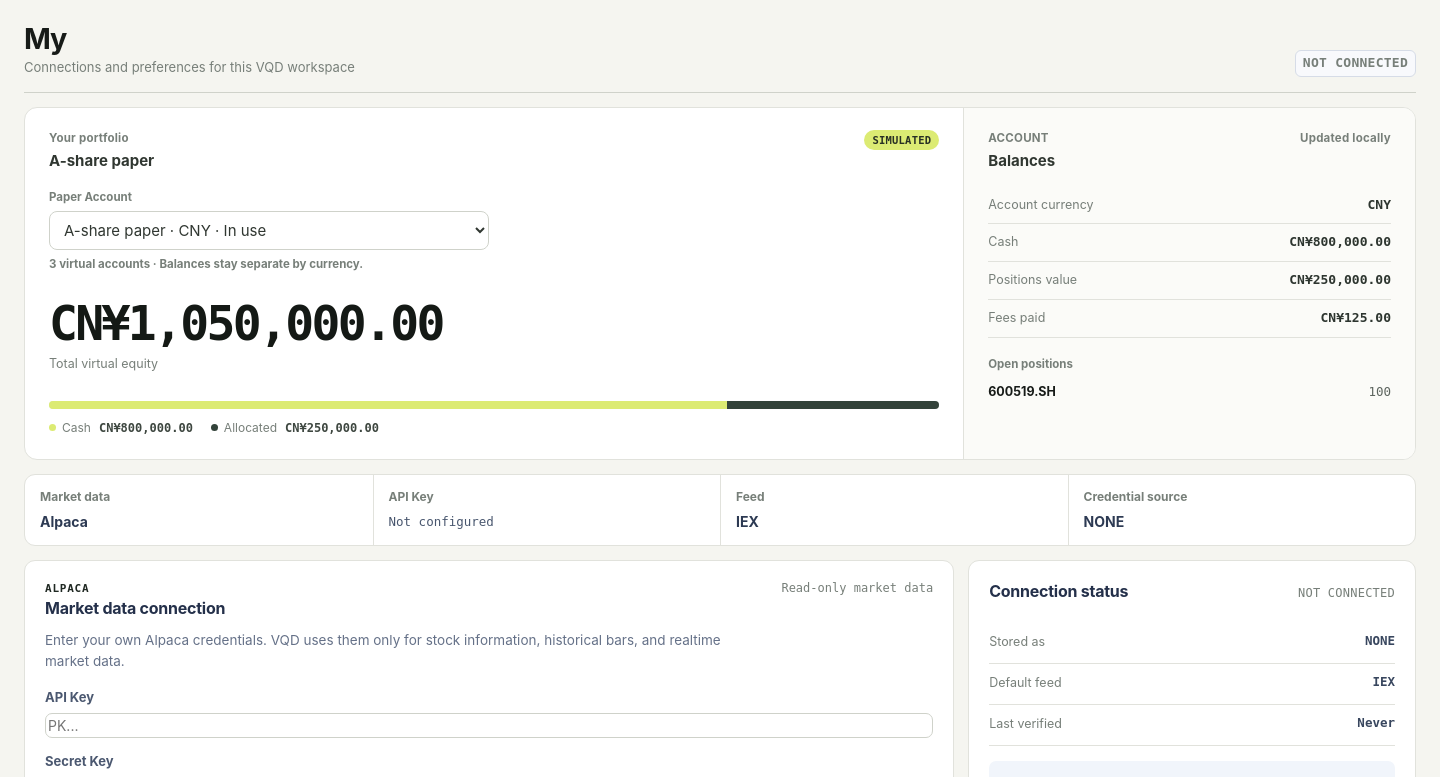
switches between paper accounts without aggregating different currencies
The image size is (1440, 777).
Expected: the text "3 virtual accounts · Balances stay separate by currency." is shown, [49, 257, 363, 271]
Expected: the text "CNY" is shown, [1368, 197, 1391, 212]
Select "US paper · USD" in the dropdown labelled "Paper Account": (269, 230) [49, 211, 489, 250]
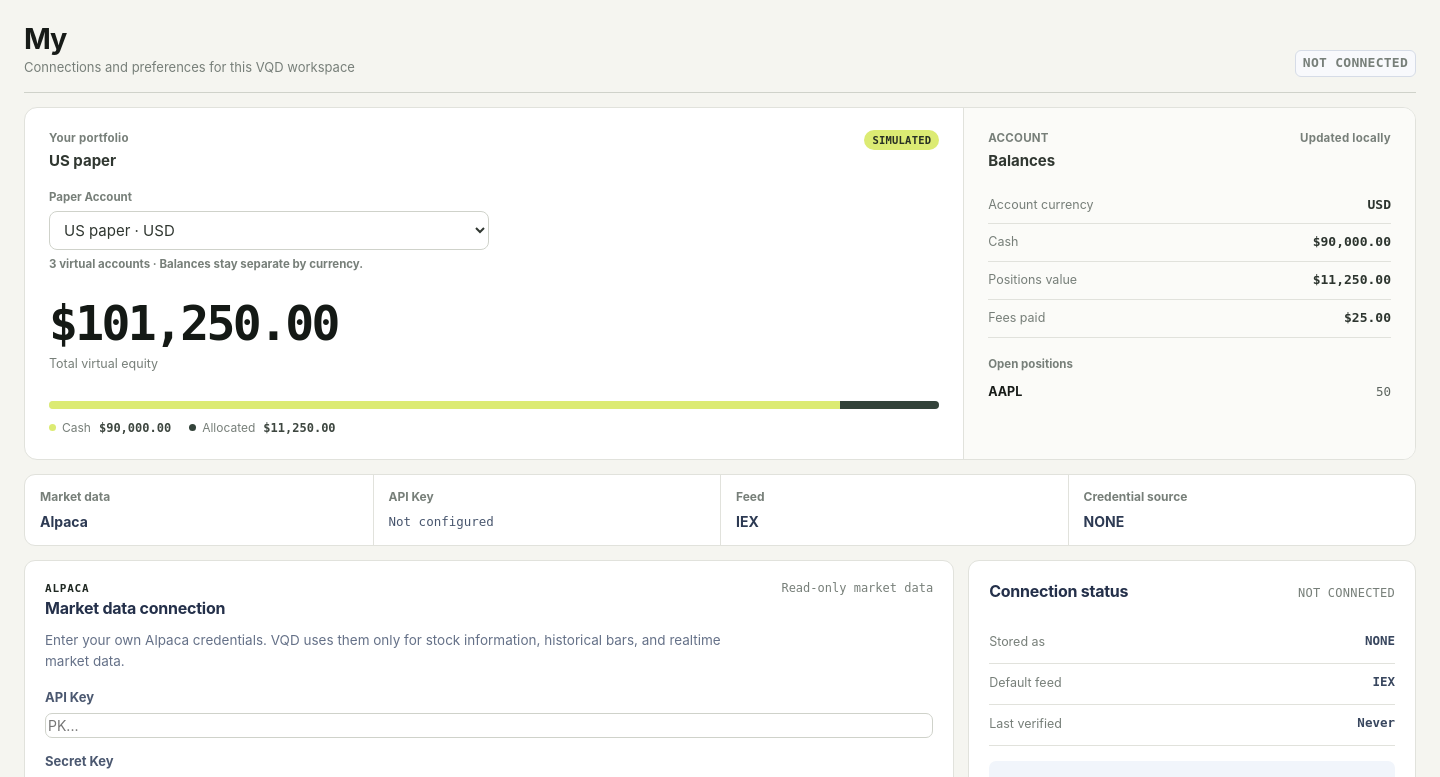
Now the text "USD" is shown, box [1368, 197, 1391, 212]
